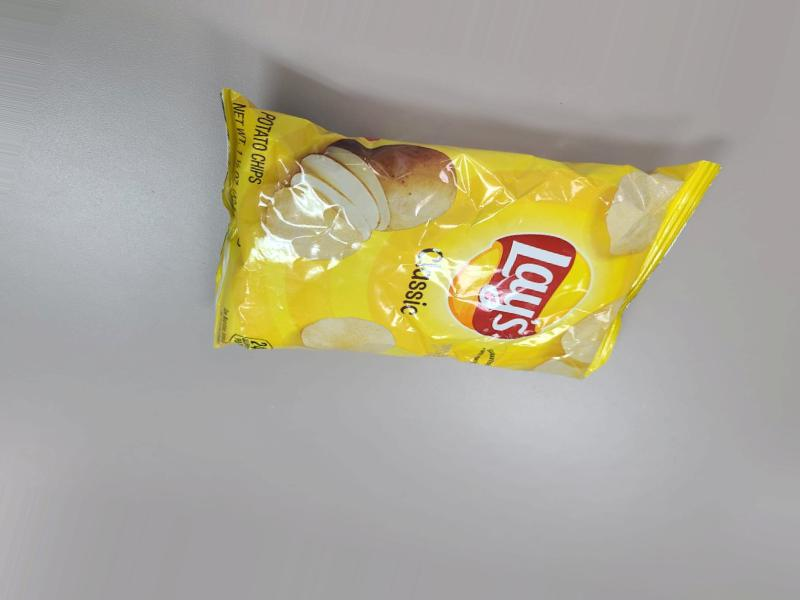lays: (234, 95, 709, 397)
